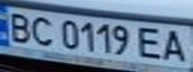0: (54, 17, 81, 51)
1: (93, 20, 115, 54), (78, 19, 96, 52)
9: (109, 22, 136, 56)
A: (160, 27, 193, 64)
B: (3, 9, 36, 43)
C: (27, 14, 57, 47)
E: (136, 25, 169, 61)
